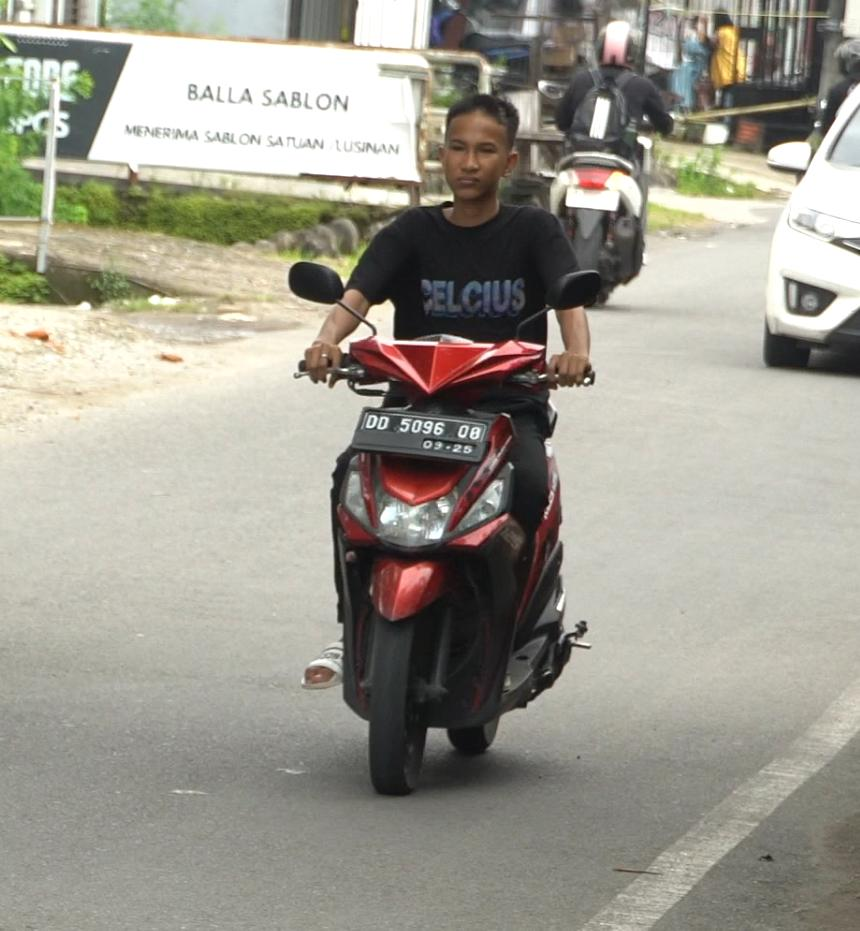number-plate: (346, 402, 496, 464)
